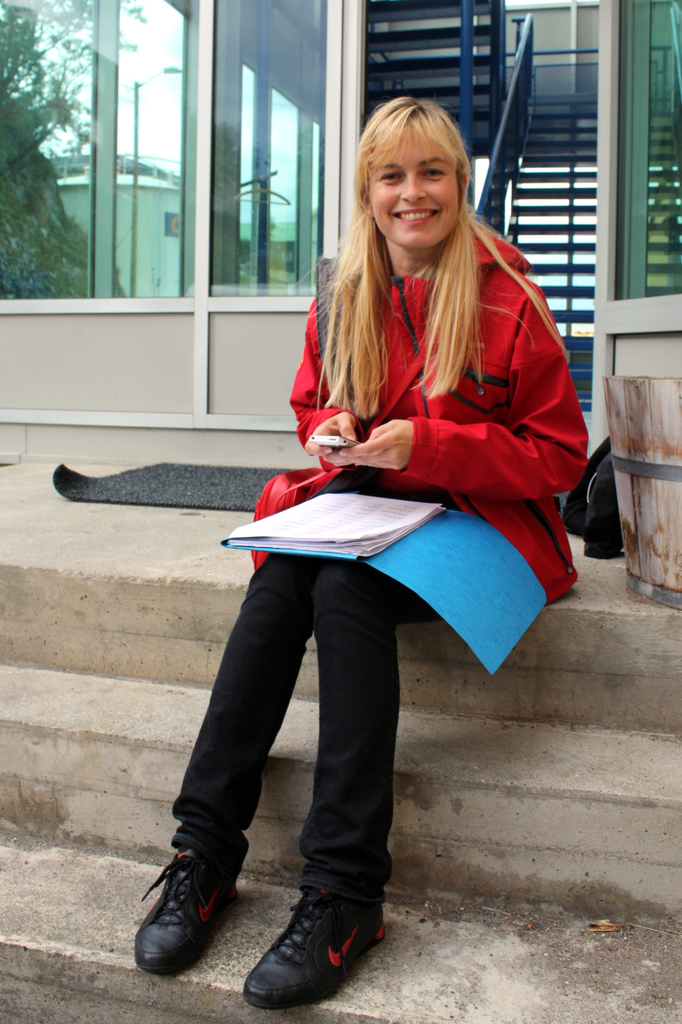Human_hand: (349, 408, 435, 472), (300, 409, 363, 472)
